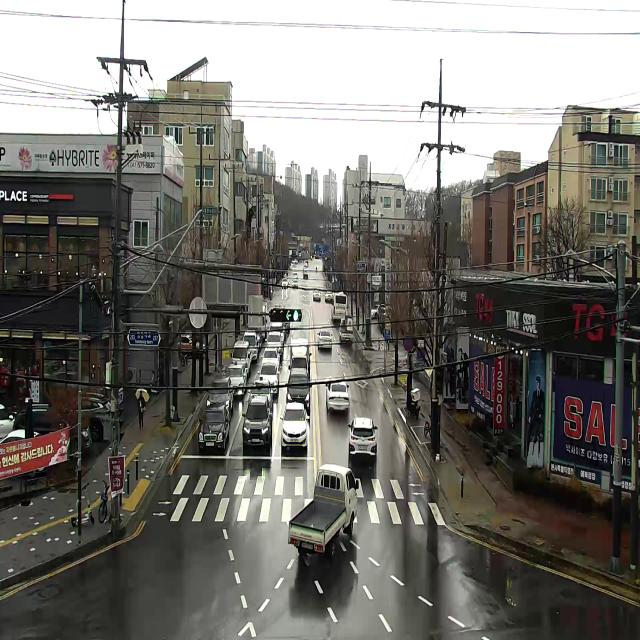Bus: (332, 294, 347, 320)
Car: (12, 412, 92, 460), (0, 429, 45, 478), (74, 392, 110, 442), (242, 395, 272, 450), (198, 405, 230, 452), (280, 403, 310, 449), (347, 418, 378, 460), (207, 376, 235, 414), (285, 374, 312, 410), (325, 380, 350, 412), (248, 377, 273, 409), (228, 360, 247, 396), (258, 363, 280, 393), (180, 335, 206, 355), (265, 332, 283, 356), (261, 348, 280, 370), (270, 322, 285, 344), (248, 326, 262, 348), (317, 330, 333, 348), (262, 302, 268, 338), (372, 304, 386, 319), (313, 290, 321, 301), (324, 292, 332, 302), (281, 278, 288, 289), (292, 279, 298, 287), (292, 258, 298, 264), (304, 271, 308, 279), (294, 272, 298, 279), (285, 277, 289, 284), (304, 261, 308, 267)
Truck: (288, 464, 359, 559), (288, 338, 312, 377), (230, 341, 252, 373), (243, 332, 260, 361), (339, 318, 354, 342)
